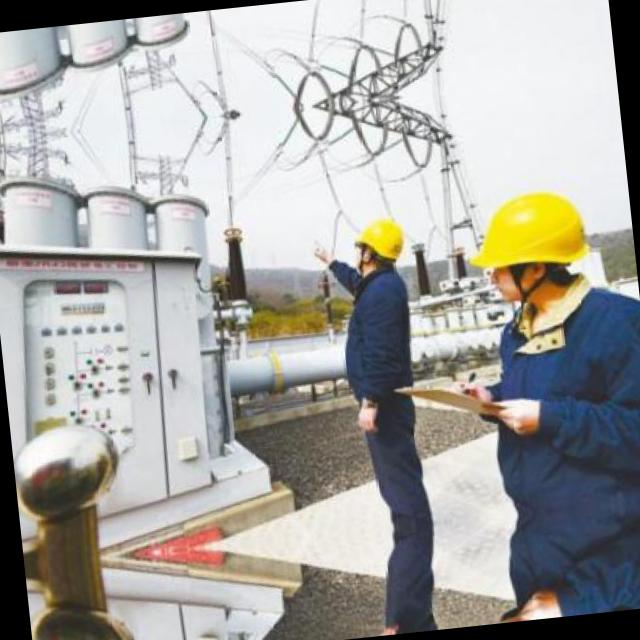helmet: (466, 175, 602, 318), (346, 208, 409, 274)
